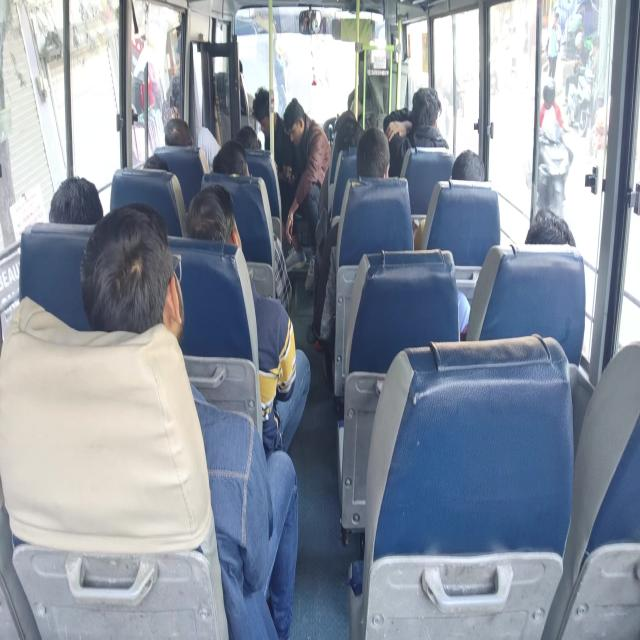person: (98, 240, 184, 337), (191, 192, 245, 258), (530, 212, 571, 269), (52, 172, 92, 222), (355, 130, 391, 182), (409, 84, 441, 138), (458, 147, 491, 198), (231, 116, 275, 154), (167, 68, 197, 118), (134, 149, 175, 183), (167, 110, 196, 157), (219, 135, 244, 175), (336, 118, 363, 149), (288, 106, 308, 144), (258, 96, 280, 130)
